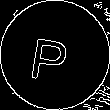P_N: (33, 27, 77, 83)
